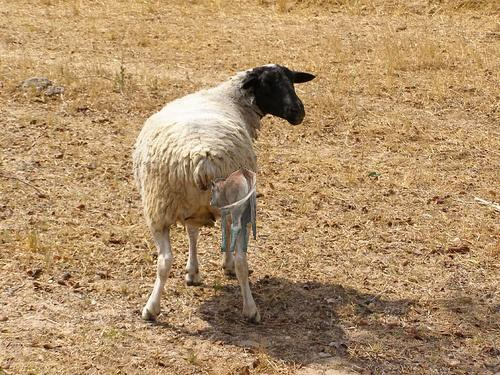tampered: (211, 168, 256, 252)
